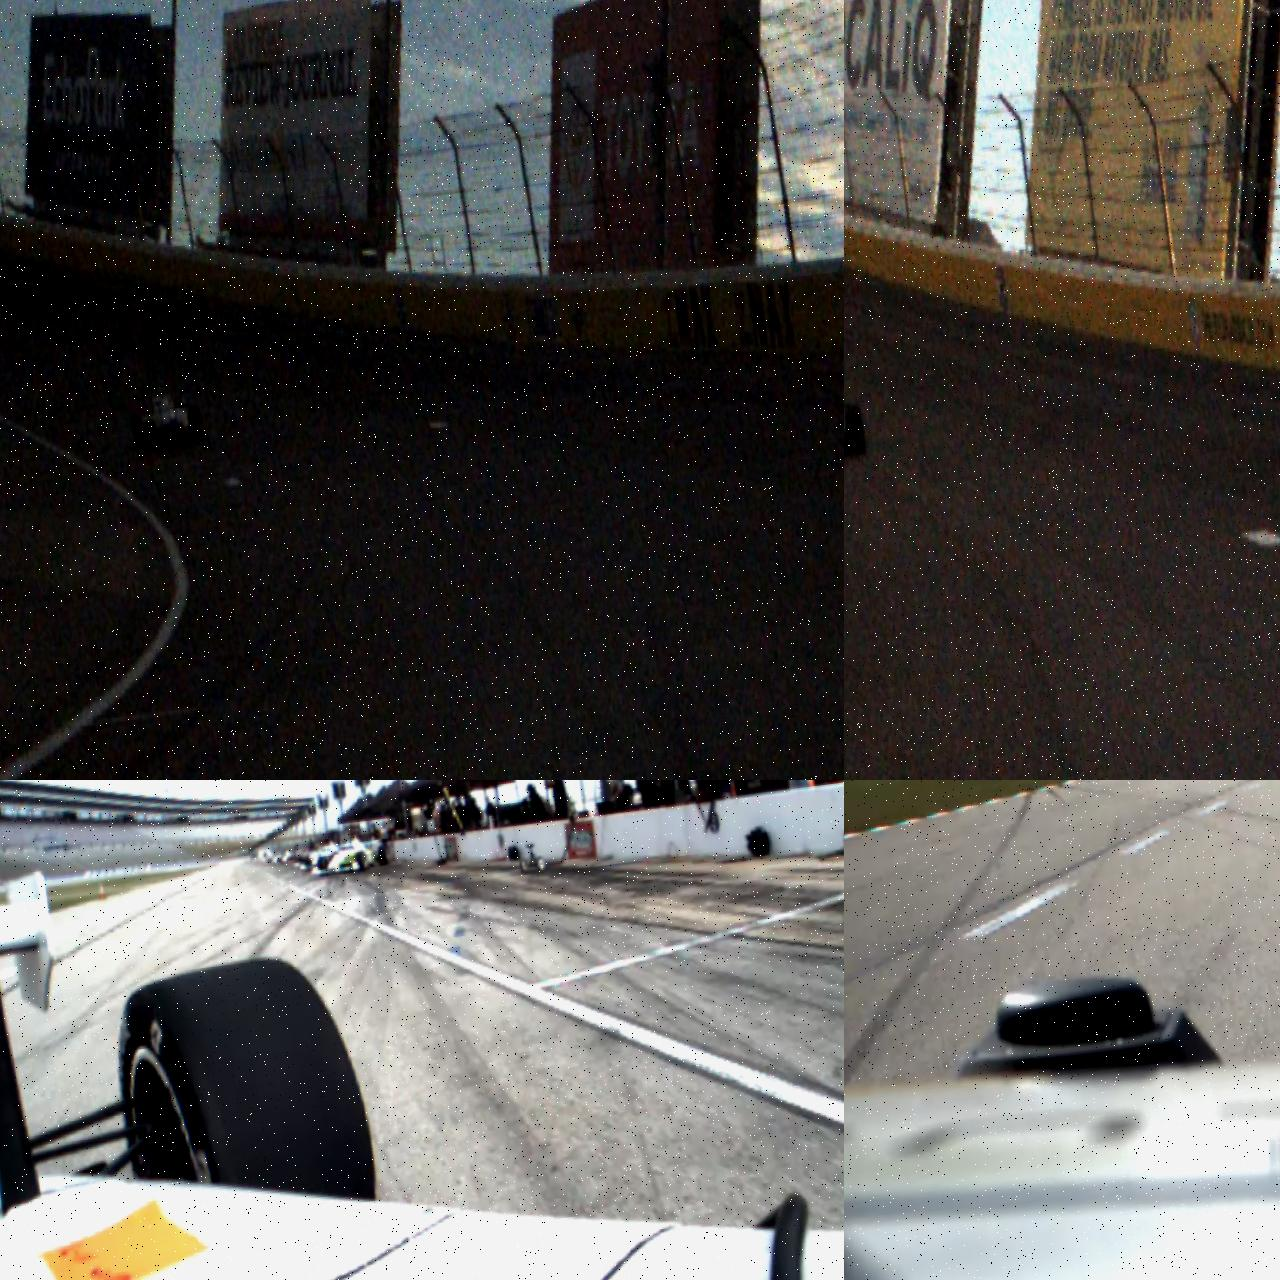AV: (124, 368, 207, 459), (307, 830, 390, 878), (844, 355, 869, 468)
Wheel: (105, 946, 379, 1234), (844, 403, 867, 458), (188, 408, 206, 450), (130, 416, 145, 458), (377, 845, 389, 866), (355, 851, 367, 871), (319, 855, 328, 876)
